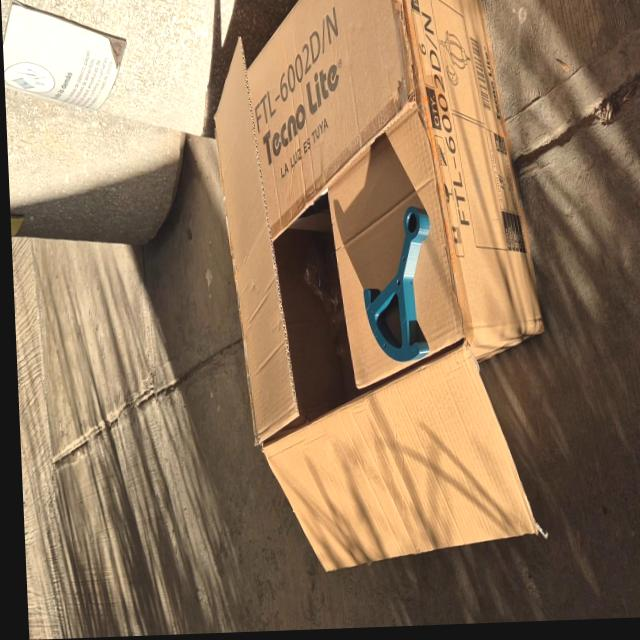haptic: (358, 205, 435, 365)
